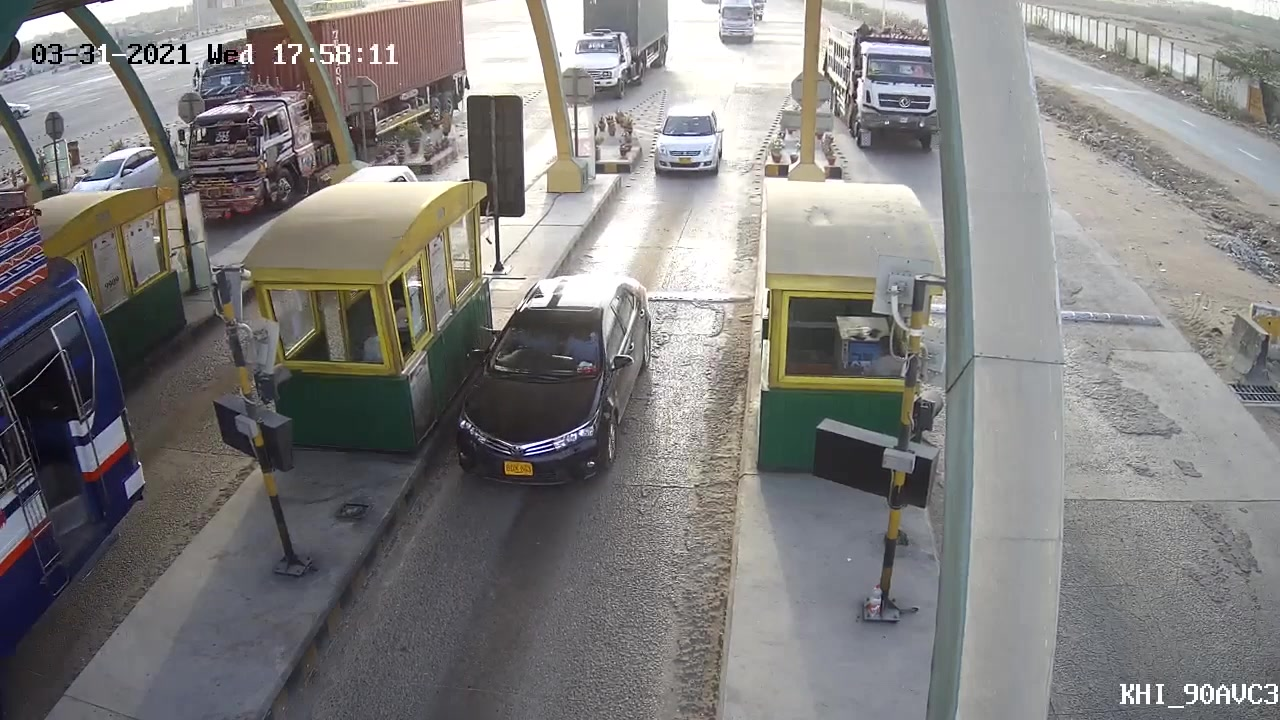F1: (436, 269, 663, 496)
